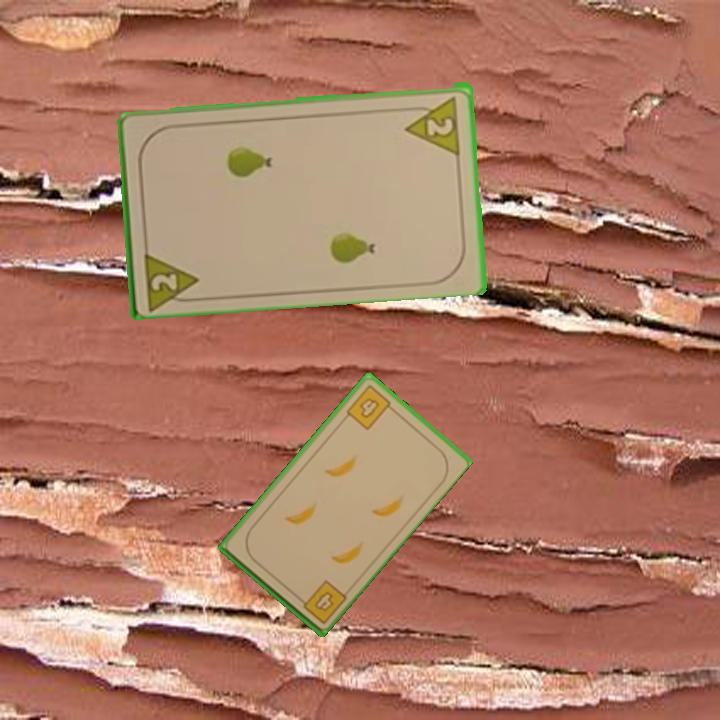2p: (401, 91, 463, 156), (147, 269, 180, 293)
4b: (342, 381, 398, 433), (293, 576, 349, 627)
